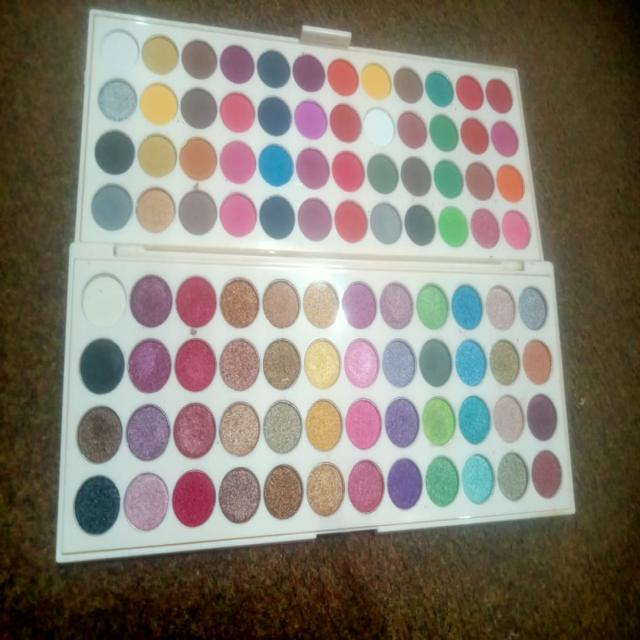eye shade: (73, 268, 567, 510), (79, 53, 525, 267)
